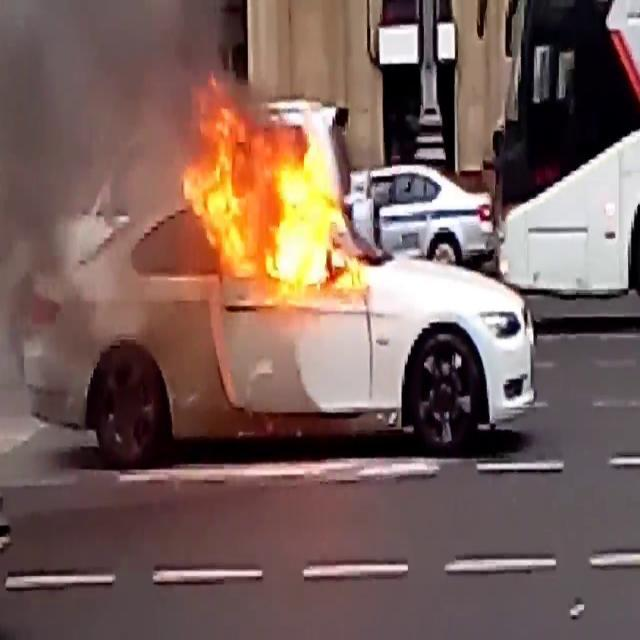Fire: (176, 88, 374, 302)
Smoke: (0, 0, 213, 407)
